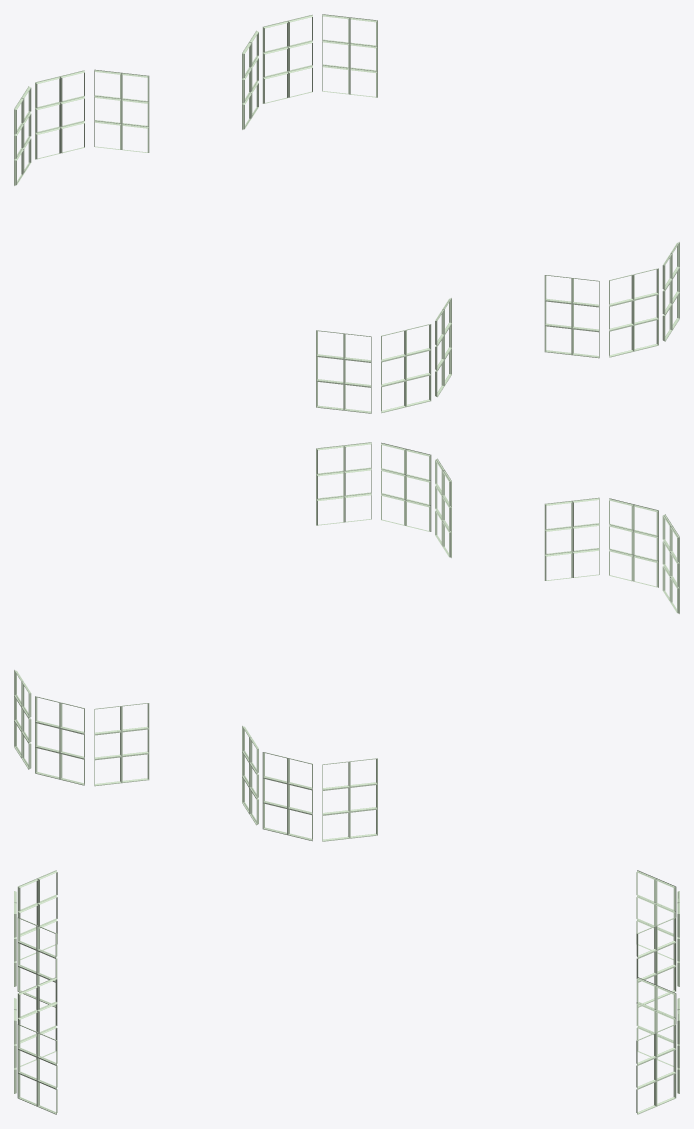
The model's file is FairyTale165.gltf.
3 views of the same model, one above another, from view 1: azimuth 30°, elevation 25°; view 2: azimuth 150°, elevation 25°; view 3: azimuth 270°, elevation 25° (orthographic). The views are drawn at different scales.
Parts seen in each view (by area): view 1: HouseLG06_Mullions_Wood; view 2: HouseLG06_Mullions_Wood; view 3: HouseLG06_Mullions_Wood.
Boxes of the visible parts, x1,y1,x2,y2 form: HouseLG06_Mullions_Wood: (14, 14, 679, 413); HouseLG06_Mullions_Wood: (14, 442, 679, 841); HouseLG06_Mullions_Wood: (14, 870, 679, 1114).
Bounding box in the file's own units: 9.21 × 1.87 × 15.2.
